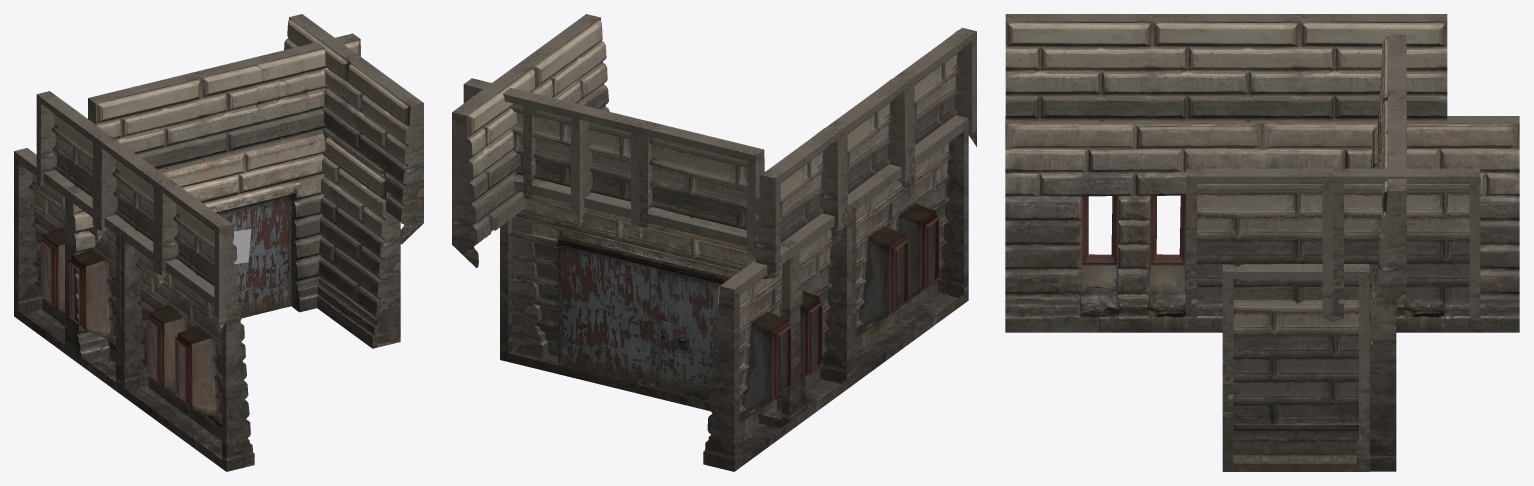
The model's file is door.fbx.
3 views of the same model, side by side, from view 1: azimuth 30°, elevation 25°; view 2: azimuth 150°, elevation 25°; view 3: azimuth 270°, elevation 25° (orthographic). The views are drawn at different scales.
Visible parts, largest first — view 1: AssetBuilding.881, AssetBuilding.829, AssetBuilding.897, AssetBuilding.896, AssetBuilding.808, AssetBuilding.893, AssetBuilding.894, AssetBuilding.874, AssetBuilding.876, AssetBuilding.895, AssetBuilding.875, AssetBuilding.807 (+1 smaller); view 2: AssetBuilding.881, AssetBuilding.829, AssetBuilding.897, AssetBuilding.893, AssetBuilding.807, AssetBuilding.894, AssetBuilding.875, AssetBuilding.876, AssetBuilding.874, AssetBuilding.808, AssetBuilding.895, AssetBuilding.896; view 3: AssetBuilding.829, AssetBuilding.896, AssetBuilding.897, AssetBuilding.808, AssetBuilding.807, AssetBuilding.875, AssetBuilding.874, AssetBuilding.876, AssetBuilding.881, AssetBuilding.895, AssetBuilding.893, AssetBuilding.894.
Part boxes in pixels (x1,y1,x2,y2): AssetBuilding.881: (65, 130, 325, 363); AssetBuilding.829: (120, 226, 254, 471); AssetBuilding.897: (14, 148, 148, 393); AssetBuilding.896: (317, 135, 400, 348); AssetBuilding.808: (339, 58, 423, 244); AssetBuilding.893: (88, 72, 205, 170); AssetBuilding.894: (194, 50, 310, 160); AssetBuilding.874: (158, 180, 239, 332); AssetBuilding.876: (36, 91, 117, 243); AssetBuilding.895: (255, 33, 360, 147); AssetBuilding.875: (97, 135, 171, 287); AssetBuilding.807: (284, 14, 362, 168); AssetBuilding.881: (500, 175, 808, 428); AssetBuilding.829: (820, 115, 968, 385); AssetBuilding.897: (703, 203, 851, 471); AssetBuilding.893: (639, 121, 764, 259); AssetBuilding.807: (452, 63, 538, 267); AssetBuilding.894: (523, 95, 651, 242); AssetBuilding.875: (820, 77, 909, 229); AssetBuilding.876: (753, 126, 842, 278); AssetBuilding.874: (888, 27, 976, 180); AssetBuilding.808: (519, 14, 609, 111); AssetBuilding.895: (463, 78, 592, 227); AssetBuilding.896: (512, 219, 548, 358); AssetBuilding.829: (1005, 116, 1262, 332); AssetBuilding.896: (1222, 264, 1369, 471); AssetBuilding.897: (1262, 116, 1519, 332); AssetBuilding.808: (1186, 168, 1333, 321); AssetBuilding.807: (1333, 168, 1480, 321); AssetBuilding.875: (1152, 14, 1299, 122); AssetBuilding.874: (1005, 14, 1152, 122); AssetBuilding.876: (1300, 14, 1447, 122); AssetBuilding.881: (1357, 121, 1396, 471); AssetBuilding.895: (1376, 130, 1406, 307); AssetBuilding.893: (1378, 34, 1406, 168); AssetBuilding.894: (1379, 96, 1406, 168).
Size of the model in its own units: 224 by 177 by 275.
